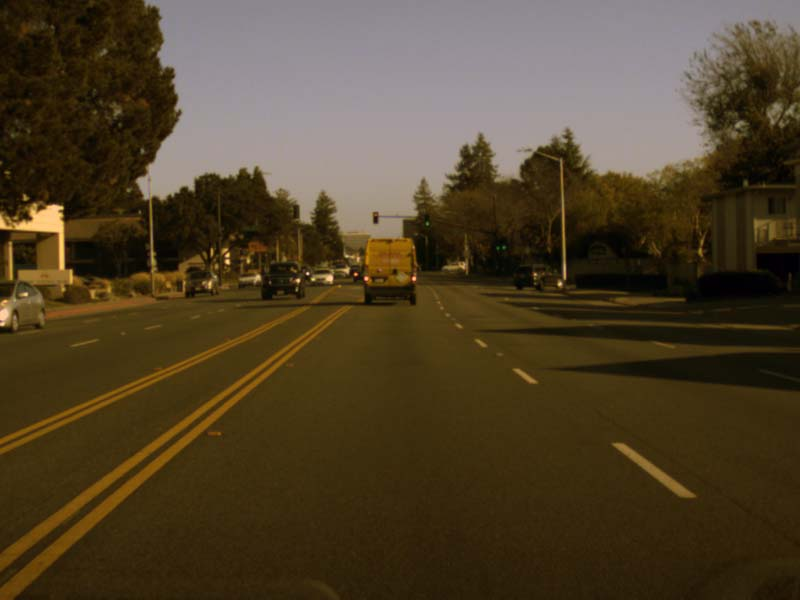Green: (499, 237, 506, 250), (493, 239, 499, 251), (424, 214, 429, 226)
Red: (372, 211, 378, 223)
